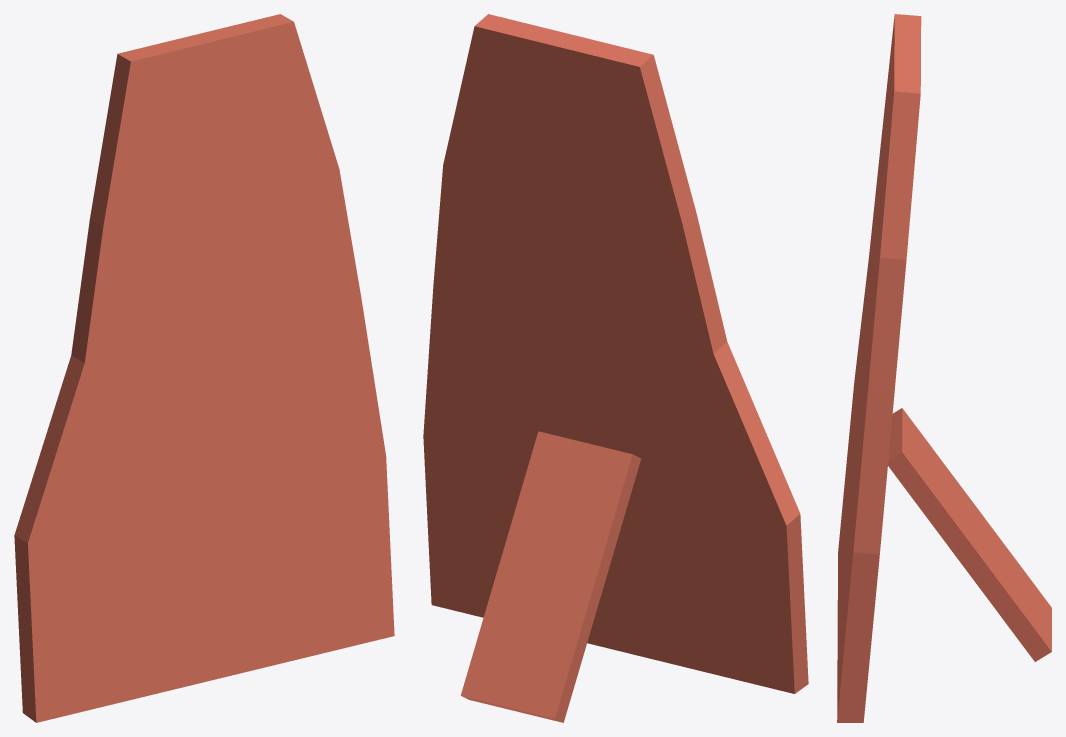
Rendered from baddie3.fbx.
The picture shows the model from 3 angles, left to right: view 1: azimuth 30°, elevation 25°; view 2: azimuth 150°, elevation 25°; view 3: azimuth 270°, elevation 25°; orthographic projection. The views are drawn at different scales.
Parts seen in each view (by area): view 1: Plane.002; view 2: Plane.002; view 3: Plane.002.
Boxes of the visible parts, x1,y1,x2,y2 form: Plane.002: (14, 14, 394, 722); Plane.002: (423, 14, 808, 722); Plane.002: (837, 14, 1051, 722).
Size of the model in its own units: 304 by 495 by 161.
